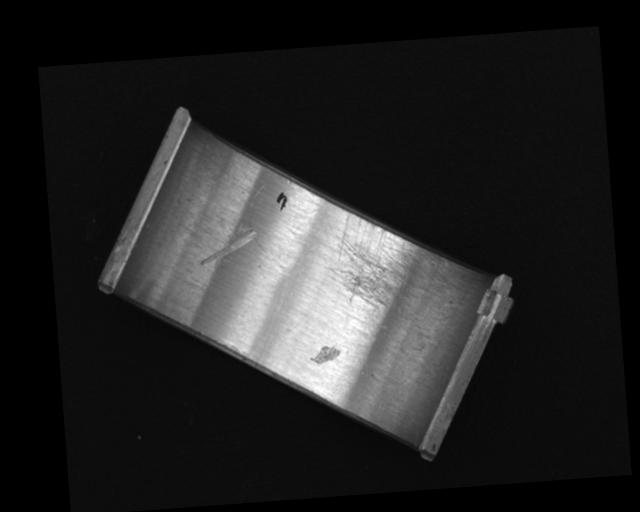blot: (275, 190, 289, 211)
bruise: (308, 343, 342, 365)
nick: (248, 168, 282, 255), (198, 227, 259, 265)
scratch: (322, 204, 446, 318)
